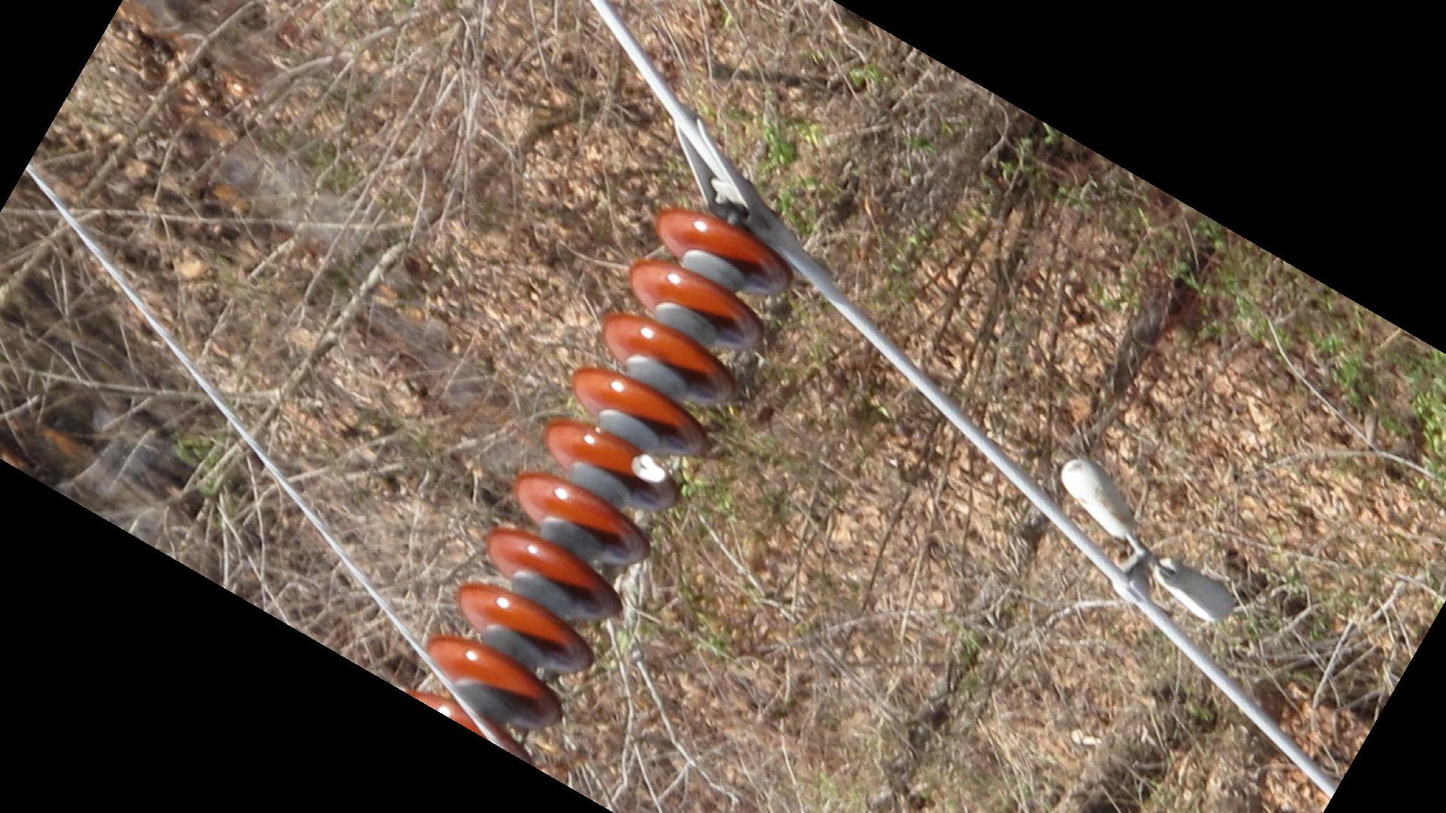insulator: (403, 204, 801, 763)
insulator_breakage: (621, 443, 676, 493)
